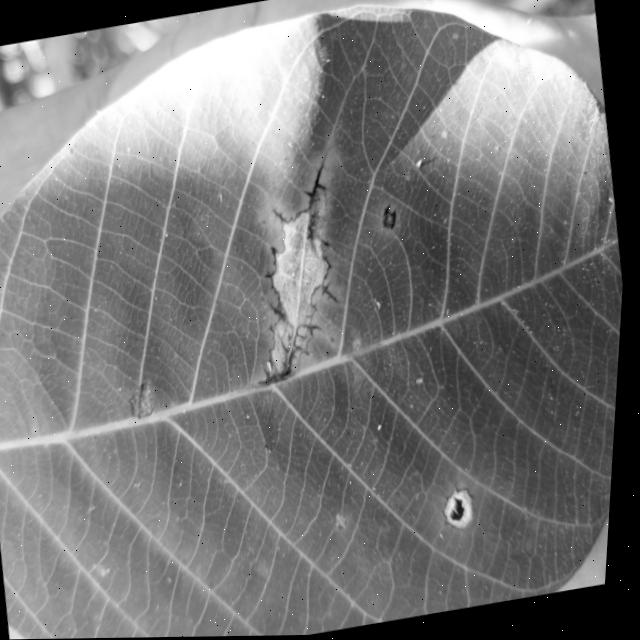Corynespora: (229, 159, 360, 389)
Leaf-Blight: (263, 211, 341, 333)
